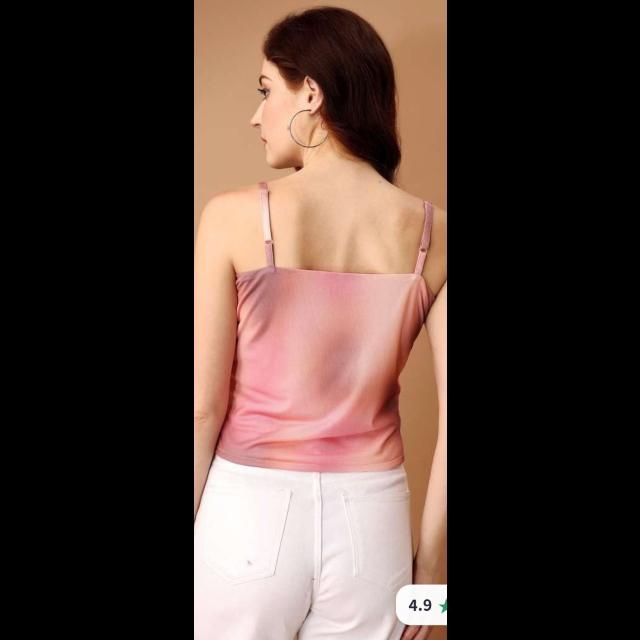bottom: (199, 436, 413, 640)
ear ring: (285, 109, 325, 149)
top: (202, 174, 426, 482)
